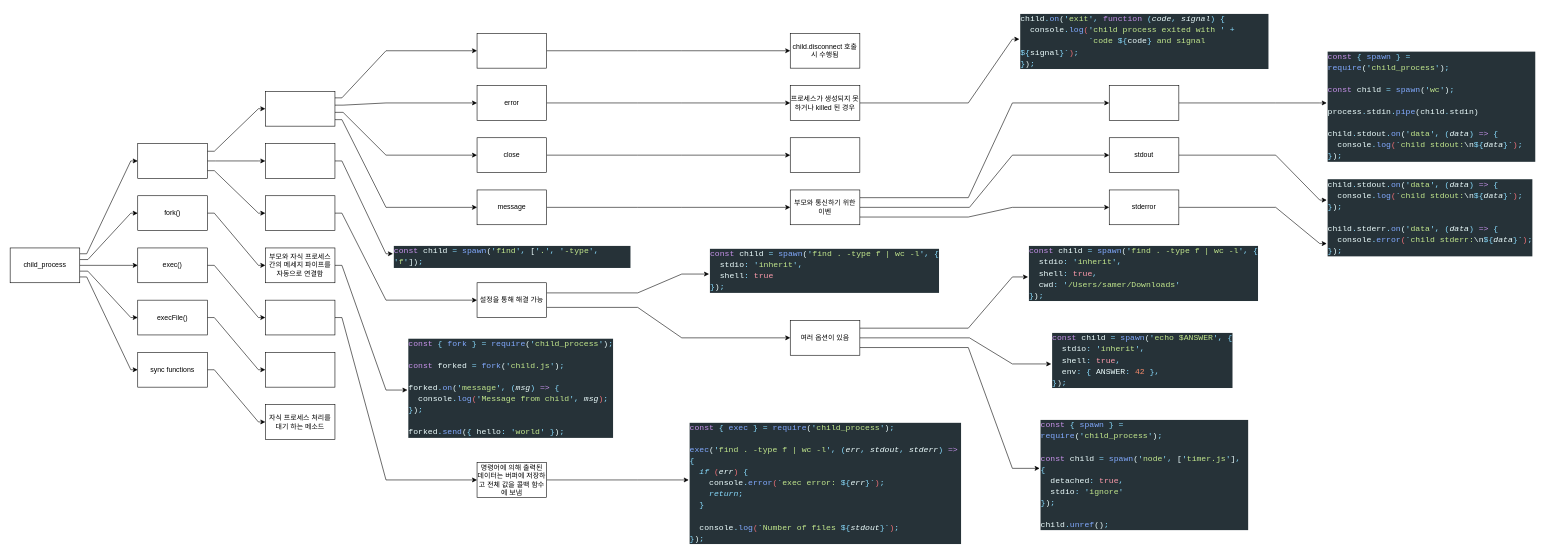
Image size: 1546x554. Some labels were removed from this diagram. Here are the shapes that lost their labels. From the top down, the centre of each, then its label:
At point 511,50: "disconnect".
At point 300,108: "이벤트 에미터를 통한 통신이 가능한 방식".
At point 1144,102: "stdin".
At point 172,160: "spawn()".
At point 300,160: "실행 명령어와 함께 생성가능".
At point 825,155: "stream 종료시".
At point 300,213: "자식 프로세스는 부모의 shell을 상속 받지 않도록 되어 있음".
At point 300,317: "한번의 shell을 수행 하기 위한 메소드".
At point 300,369: "shell을 사용하지 않고 파일을 실행하는 메소드".
